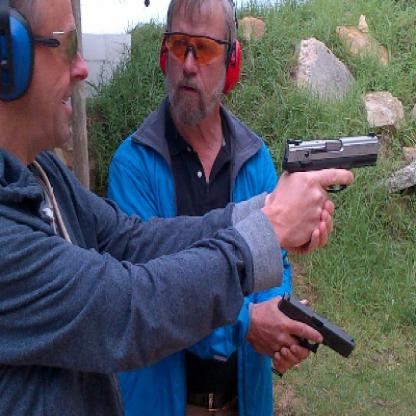gun: (270, 279, 372, 376), (280, 122, 384, 212)
